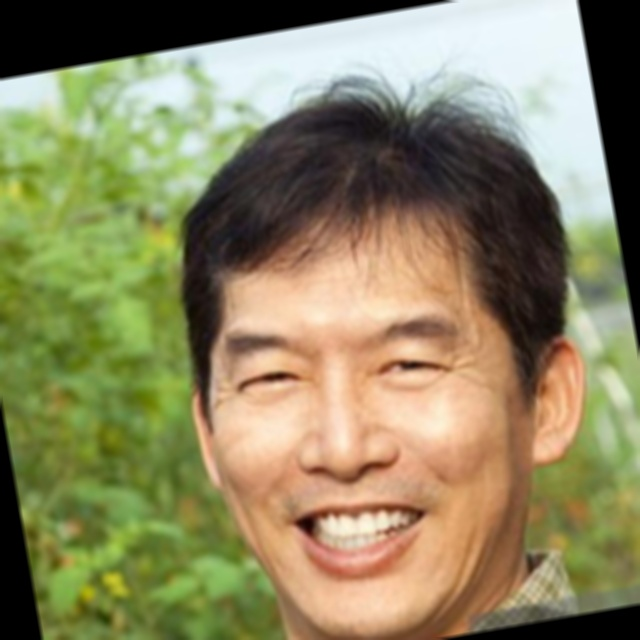Sin_Casco_Mascarrilla: (139, 57, 622, 640)
